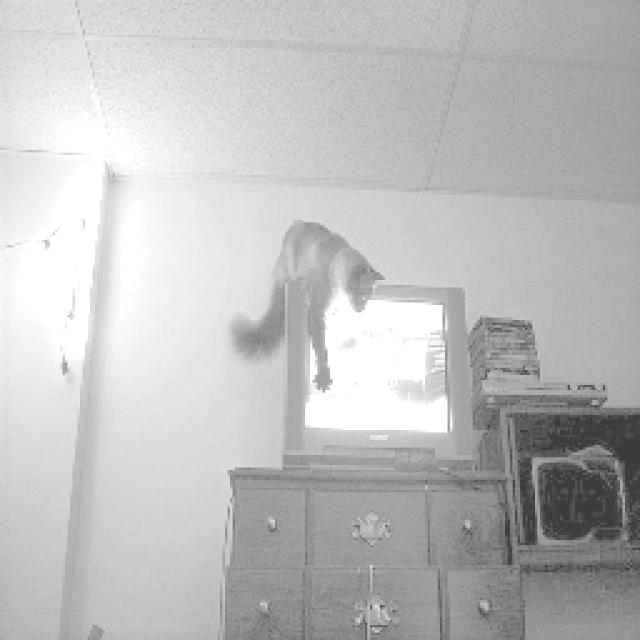cat: (226, 202, 392, 410)
